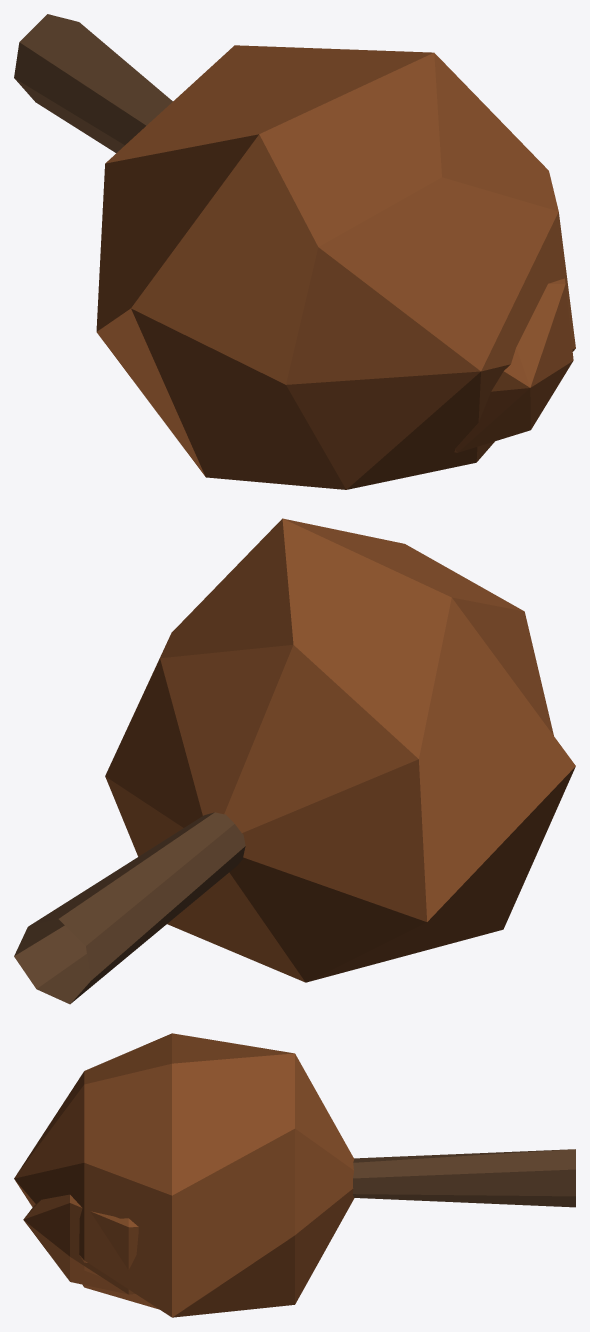
File: dying_0.glb
3 renders of one model, top to bottom at view 1: azimuth 30°, elevation 25°; view 2: azimuth 150°, elevation 25°; view 3: azimuth 270°, elevation 25°, orthographic. The views are drawn at different scales.
Visible parts, largest first — view 1: tree_07_dying_0; view 2: tree_07_dying_0; view 3: tree_07_dying_0.
Part boxes in pixels (left/top/right/bottom): tree_07_dying_0: left=14, top=14, right=575, bottom=489; tree_07_dying_0: left=14, top=518, right=575, bottom=1004; tree_07_dying_0: left=14, top=1033, right=575, bottom=1317.
Bounding box in the file's own units: 14.09 × 13.18 × 25.11.
